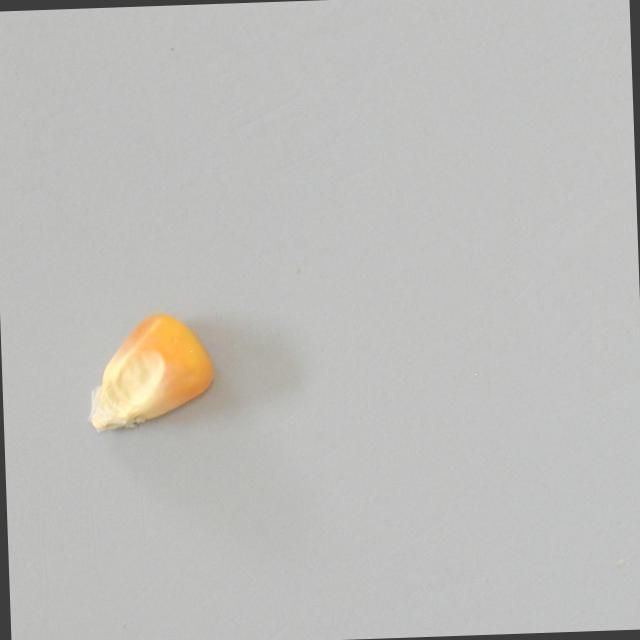entero: (81, 306, 219, 437)
